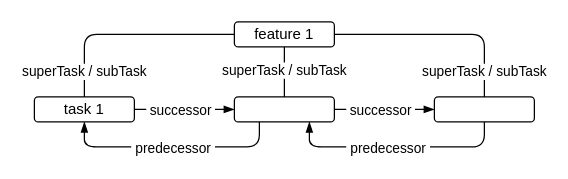
Some shapes in this 568 by 179 pixel diagram are drawn without their labels. The shapes that lost their labels are listed below. From the top down, each one's box as (x1, y1, x2, y2) in pixels, then its label:
(233, 96, 334, 122): task 2
(433, 96, 534, 122): task 3
